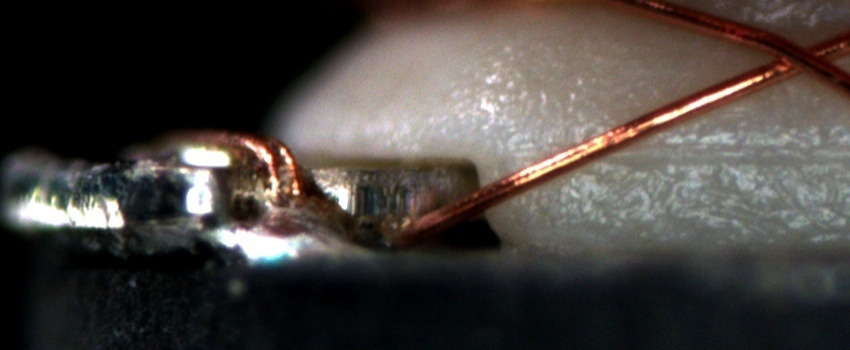CL: (750, 28, 842, 85)
DL: (581, 123, 850, 185)
TE: (170, 126, 306, 204)
